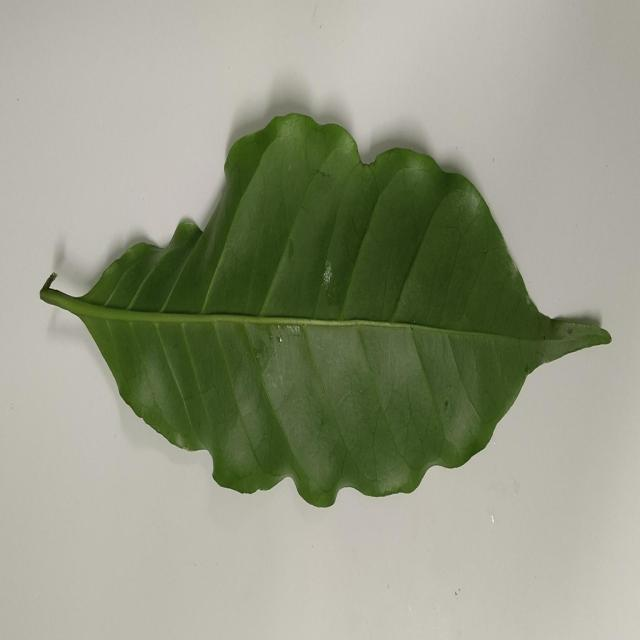Sanas: (38, 112, 614, 511)
